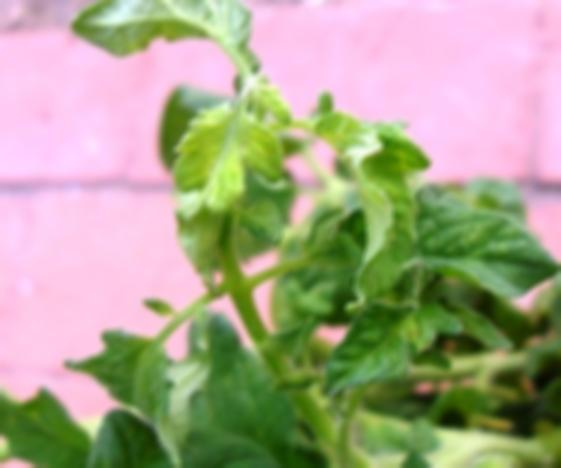Tomato leaf yellow virus: (312, 94, 442, 323), (152, 98, 288, 289), (52, 310, 193, 468), (391, 192, 561, 319), (54, 0, 279, 74)
